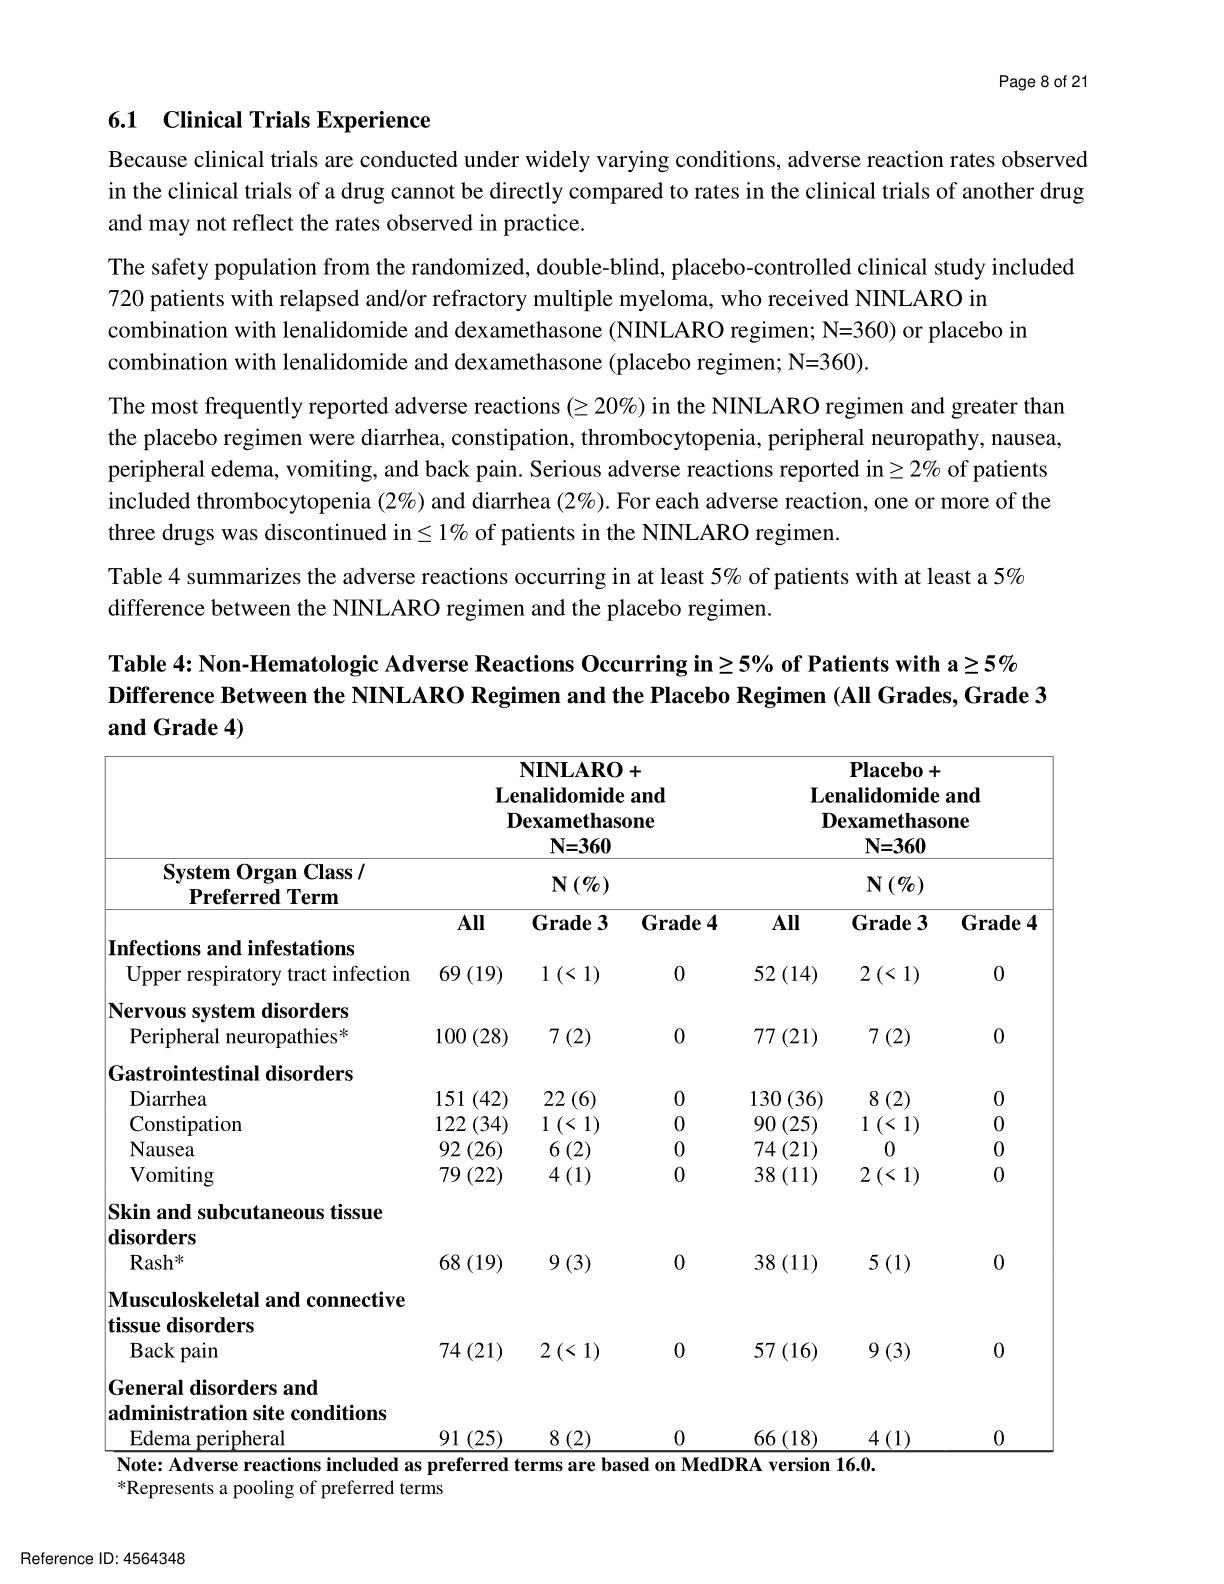partial_lined: (102, 753, 1056, 1454)
